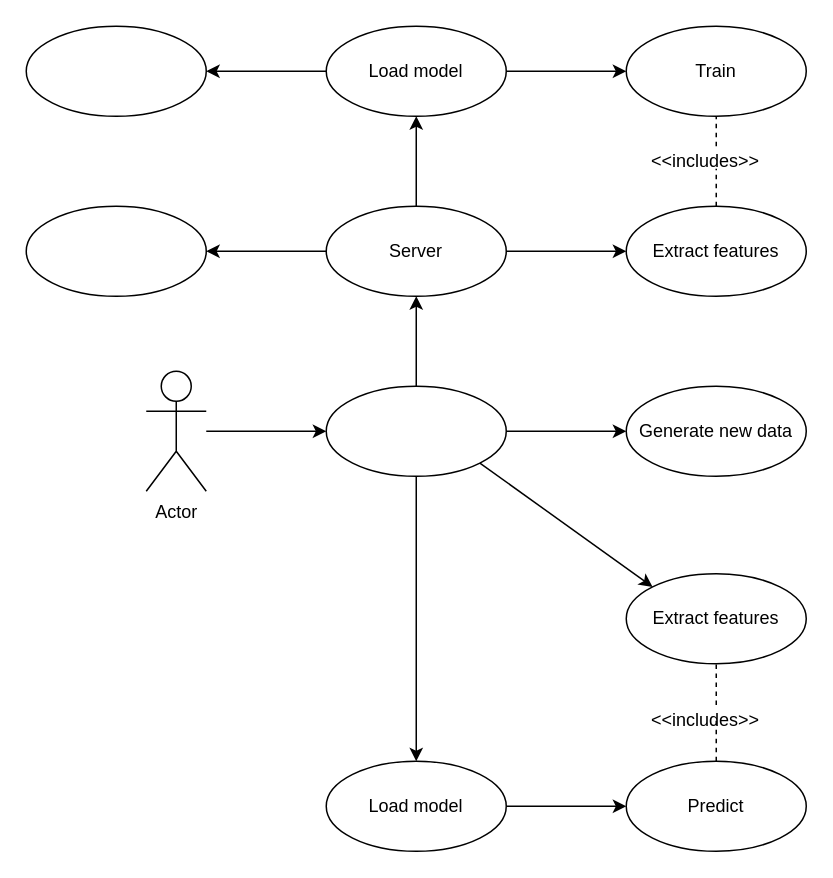
The diagram is 833 pixels wide and 878 high, and some of its shapes have lost their labels. Each missing label, with the centre of its shape:
"Android" belongs at point 415,430.
"Save data" belongs at point 115,250.
"Save model" belongs at point 115,70.
